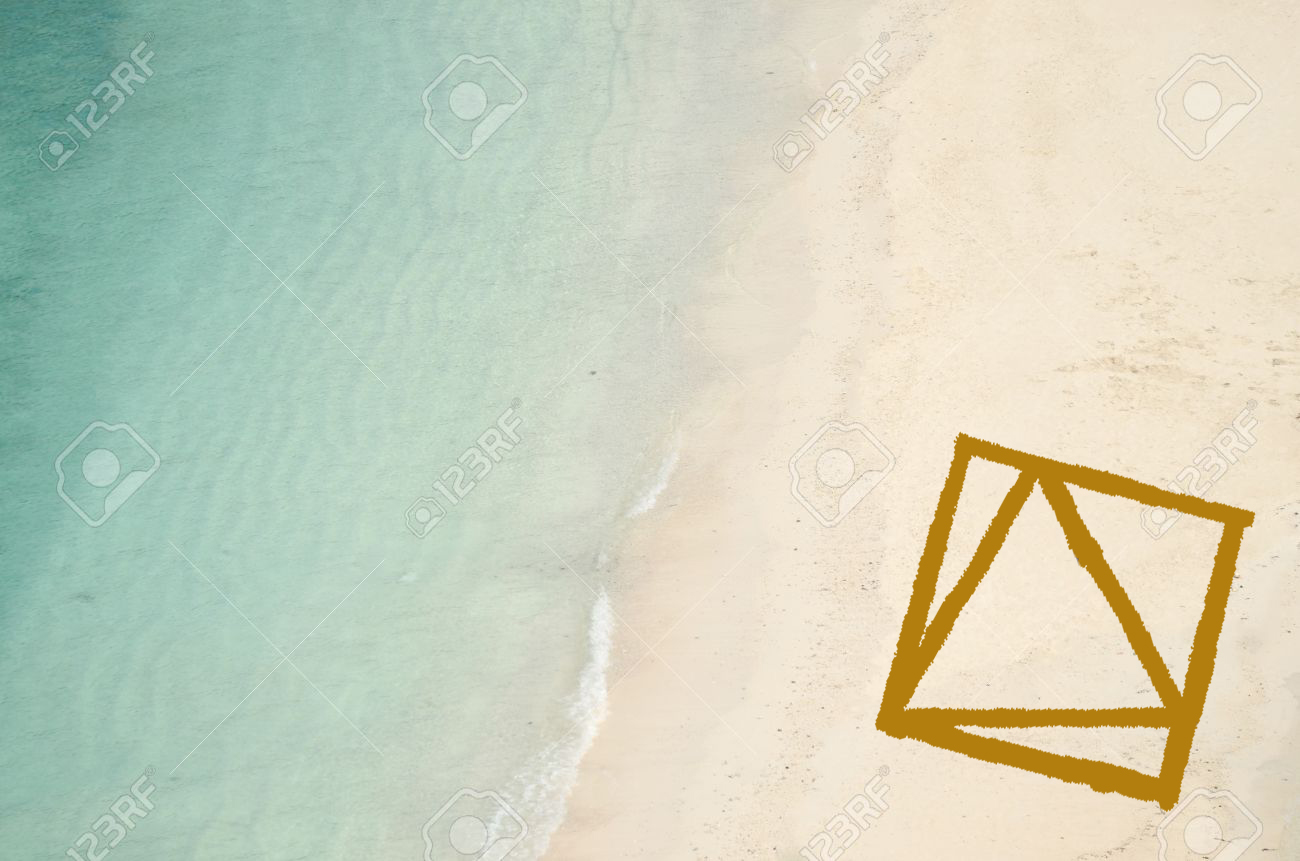marker: (869, 423, 1264, 824)
